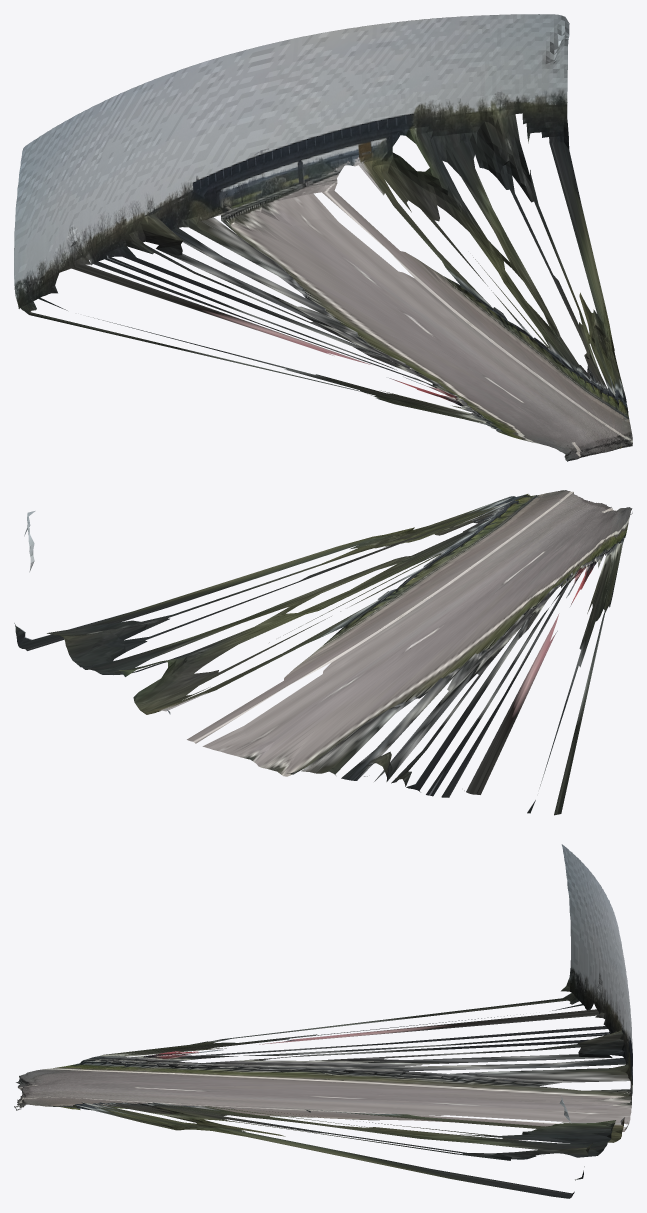
3 renders of one model, top to bottom at view 1: azimuth 30°, elevation 25°; view 2: azimuth 150°, elevation 25°; view 3: azimuth 270°, elevation 25°, orthographic. The views are drawn at different scales.
Visible parts, largest first — view 1: defaultobject; view 2: defaultobject; view 3: defaultobject.
Part boxes in pixels (x1,y1,x2,y2): defaultobject: (14, 14, 632, 461); defaultobject: (14, 490, 632, 815); defaultobject: (14, 844, 632, 1198).
Size of the model in its own units: 41.12 by 12.89 by 44.57.
Materials: 1 (1 with a texture image).
